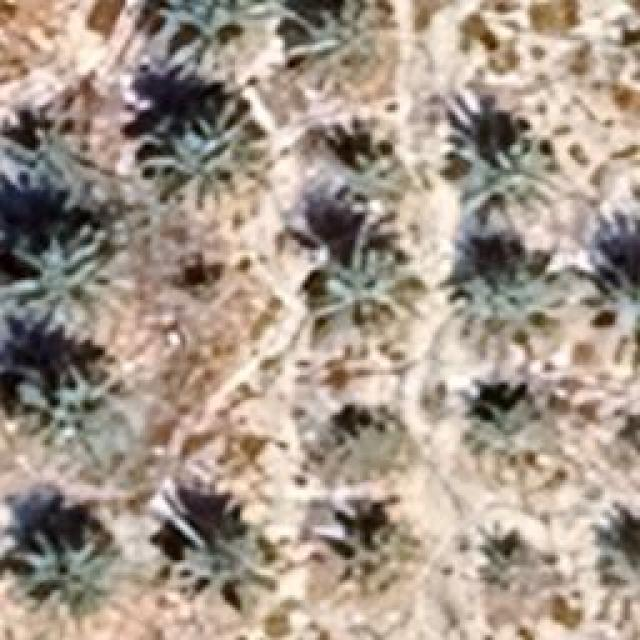PalmTree: (0, 186, 120, 332), (0, 345, 125, 465), (0, 122, 120, 222), (466, 231, 572, 339), (312, 248, 420, 350), (170, 522, 290, 610), (22, 532, 120, 638), (288, 7, 408, 92), (308, 132, 424, 216), (452, 124, 550, 222), (152, 0, 270, 80), (320, 408, 405, 492), (142, 132, 230, 210), (465, 371, 545, 454), (582, 260, 638, 370), (590, 510, 638, 632), (328, 519, 402, 589), (471, 532, 544, 600)
